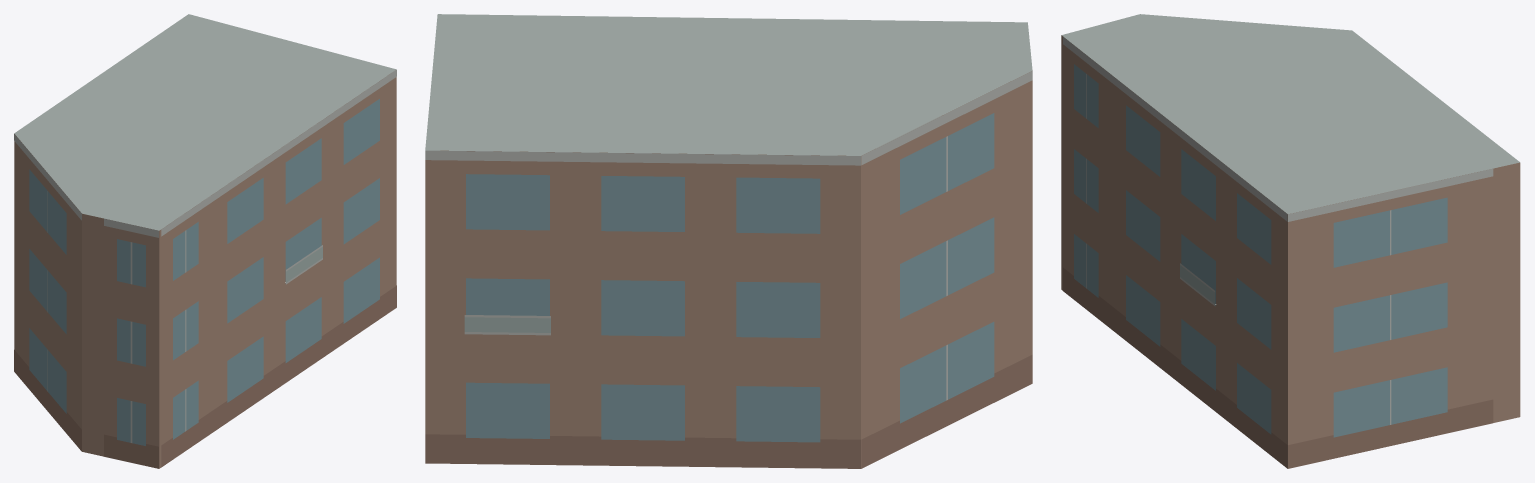
The model's file is survey-upis-32568786.glb.
3 views of the same model, side by side, from view 1: azimuth 30°, elevation 25°; view 2: azimuth 150°, elevation 25°; view 3: azimuth 270°, elevation 25° (orthographic). The views are drawn at different scales.
Visible parts, largest first — view 1: survey-upis-32568786.tmp; view 2: survey-upis-32568786.tmp; view 3: survey-upis-32568786.tmp.
Part boxes in pixels (left/top/right/bottom): survey-upis-32568786.tmp: left=14, top=14, right=396, bottom=468; survey-upis-32568786.tmp: left=425, top=14, right=1032, bottom=468; survey-upis-32568786.tmp: left=1061, top=14, right=1520, bottom=468.
Size of the model in its own units: 13.42 by 7.95 by 13.
